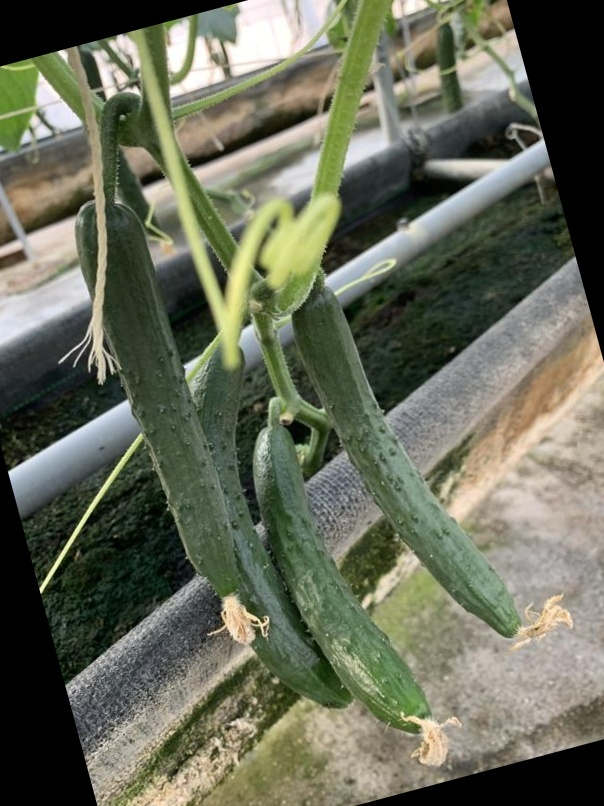mature: (304, 282, 524, 635), (89, 197, 241, 602), (256, 419, 441, 726), (198, 341, 346, 705)
